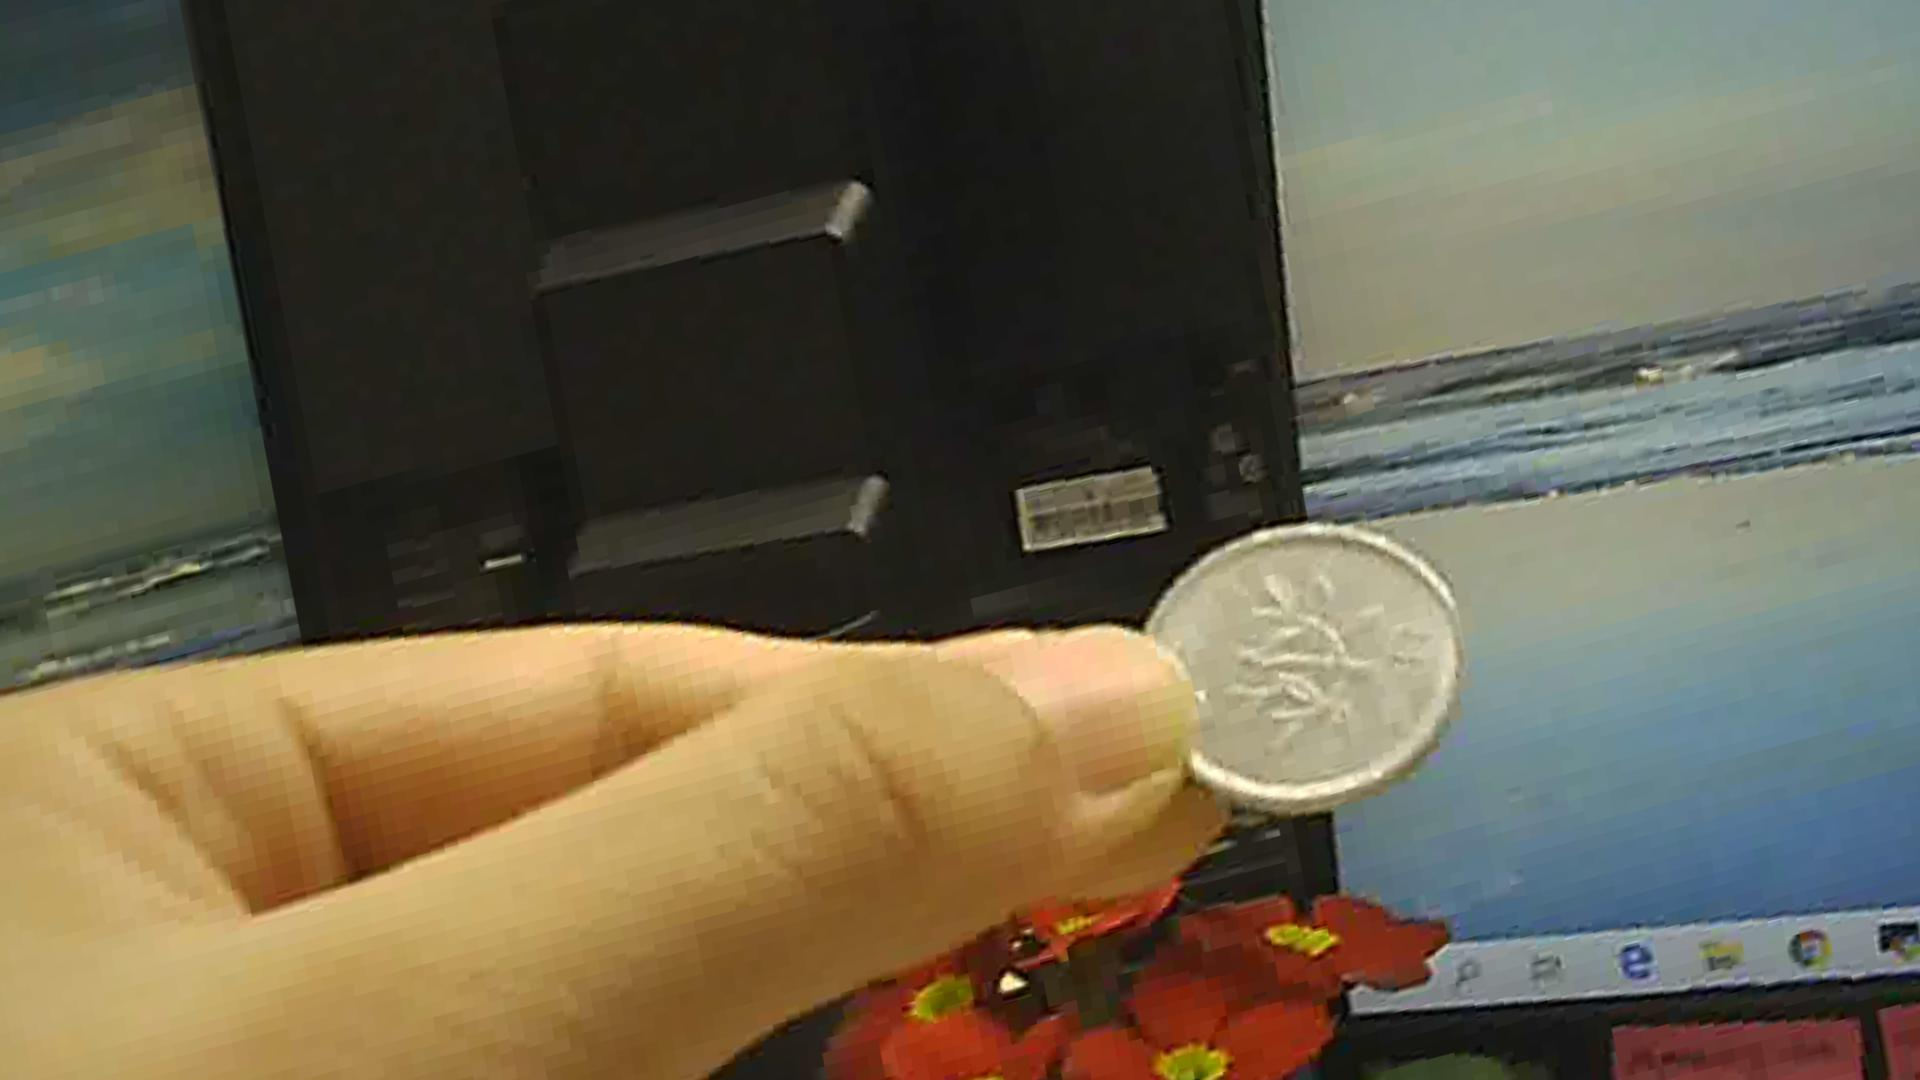1 Yen: (1125, 520, 1464, 843)
